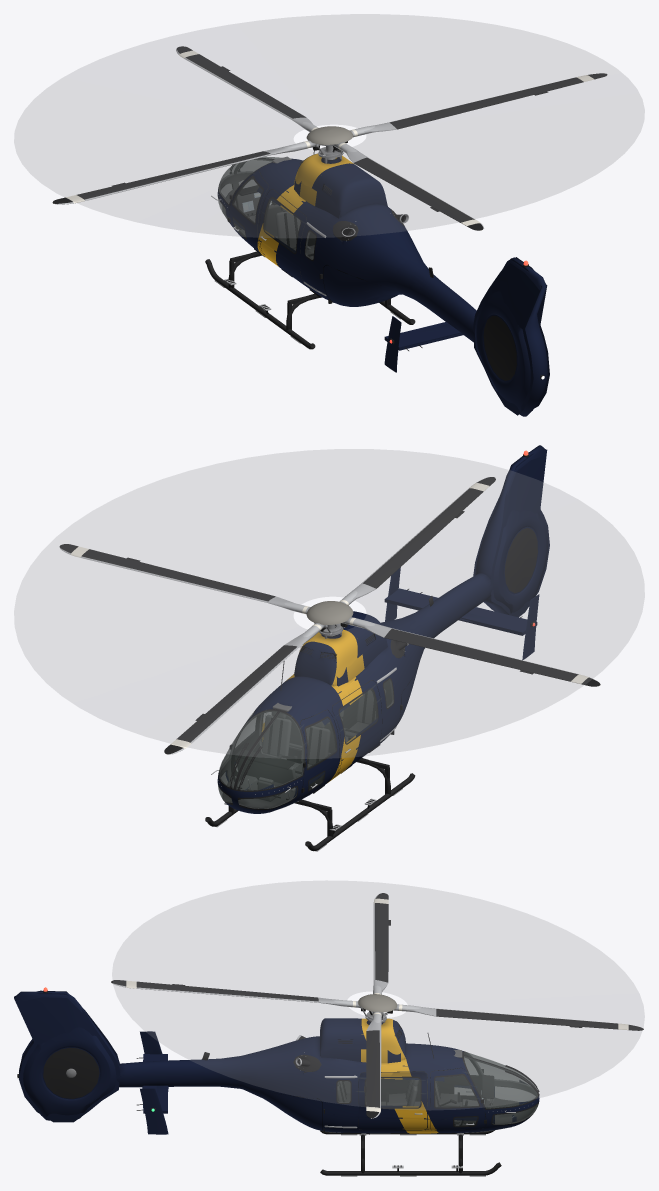
Rendered from helicopter.glb.
The picture shows the model from 3 angles, top to bottom: view 1: azimuth 30°, elevation 25°; view 2: azimuth 150°, elevation 25°; view 3: azimuth 270°, elevation 25°; orthographic projection. The views are drawn at different scales.
Visible parts, largest first — view 1: RotorDisc, Body, Far, Door_RL, Rotor, Door_FL, Blade_1, Blade_3, Blade_4, Blade_2; view 2: RotorDisc, Body, Far, Door_RL, Rotor, Door_FL, Blade_3, Blade_4, Blade_1, Blade_2; view 3: RotorDisc, Body, Far, Door_RR, Door_FR, Rotor, Blade_2, Blade_4, Blade_3, Blade_1, Door_FL, Door_RL.
Part boxes in pixels (x1,y1,x2,y2): RotorDisc: [14, 14, 644, 237]; Body: [205, 150, 547, 416]; Far: [219, 157, 549, 415]; Door_RL: [259, 189, 306, 283]; Rotor: [264, 117, 396, 162]; Door_FL: [227, 170, 268, 253]; Blade_1: [389, 73, 607, 129]; Blade_3: [52, 151, 271, 204]; Blade_4: [353, 157, 484, 230]; Blade_2: [176, 46, 306, 119]; RotorDisc: [14, 449, 644, 758]; Body: [205, 445, 547, 851]; Far: [205, 449, 549, 847]; Door_RL: [332, 680, 381, 774]; Rotor: [267, 583, 391, 647]; Door_FL: [299, 709, 339, 798]; Blade_3: [384, 628, 600, 686]; Blade_4: [362, 477, 495, 588]; Blade_1: [59, 544, 275, 602]; Blade_2: [164, 645, 298, 754]; RotorDisc: [112, 880, 644, 1110]; Body: [14, 987, 539, 1176]; Far: [14, 990, 537, 1171]; Door_RR: [358, 1071, 427, 1130]; Door_FR: [430, 1067, 486, 1130]; Rotor: [318, 980, 436, 1030]; Blade_2: [436, 1008, 643, 1030]; Blade_4: [111, 980, 318, 1002]; Blade_3: [373, 893, 390, 982]; Blade_1: [364, 1030, 381, 1118]; Door_FL: [438, 1053, 481, 1101]; Door_RL: [381, 1079, 420, 1101].
Size of the model in its own units: 10.4 by 3.88 by 12.26.
